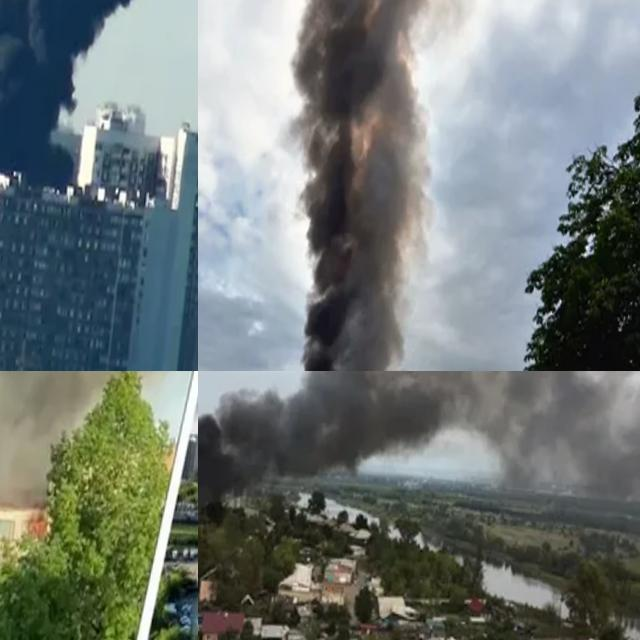smoke: (250, 0, 459, 371), (198, 371, 485, 525), (0, 0, 180, 188), (0, 371, 198, 523)
